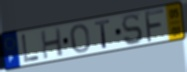F: (143, 8, 166, 44)
H: (39, 27, 65, 61)
L: (20, 33, 41, 64)
O: (69, 23, 91, 55)
S: (121, 13, 145, 47)
T: (93, 19, 112, 50)
